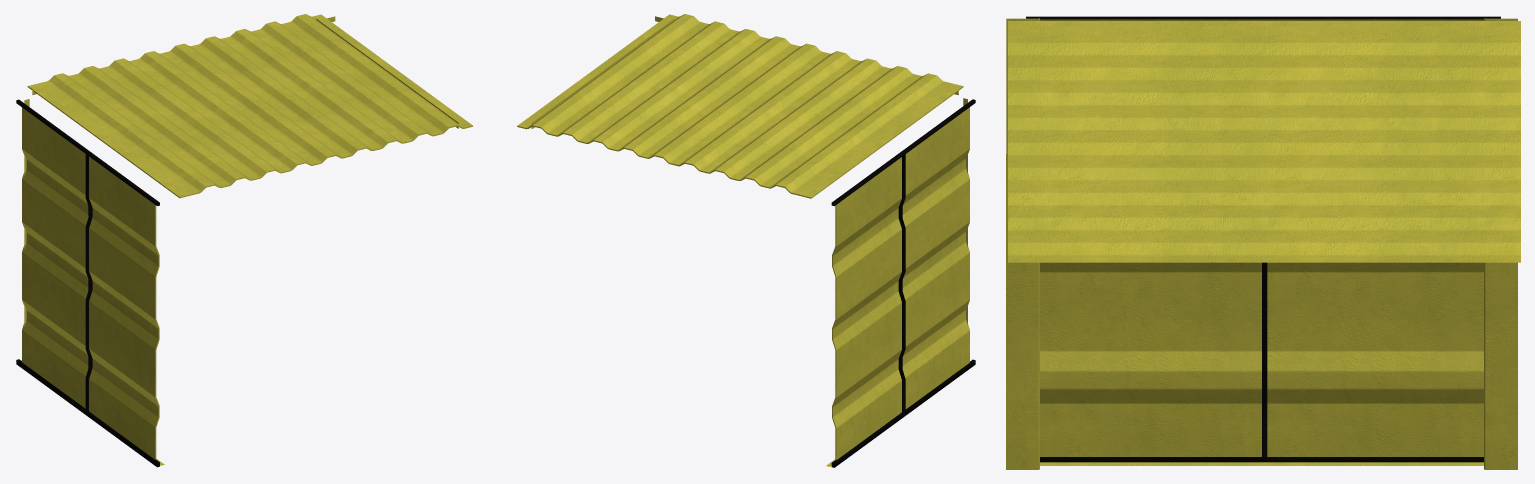
File: rear-top-sprayfoam.glb
3 renders of one model, left to right at view 1: azimuth 30°, elevation 25°; view 2: azimuth 150°, elevation 25°; view 3: azimuth 270°, elevation 25°, orthographic. The views are drawn at different scales.
Visible parts, largest first — view 1: 10FT Sprayfoam_Ceiling, 10FT Sprayfoam_Reartop; view 2: 10FT Sprayfoam_Ceiling, 10FT Sprayfoam_Reartop; view 3: 10FT Sprayfoam_Ceiling, 10FT Sprayfoam_Reartop.
Boxes of the visible parts, box(x1,y1,x2,y2) form: 10FT Sprayfoam_Ceiling: box(21, 14, 473, 465); 10FT Sprayfoam_Reartop: box(16, 99, 159, 467); 10FT Sprayfoam_Ceiling: box(517, 14, 969, 466); 10FT Sprayfoam_Reartop: box(831, 99, 975, 467); 10FT Sprayfoam_Ceiling: box(1006, 18, 1520, 469); 10FT Sprayfoam_Reartop: box(1026, 16, 1500, 462).
Size of the model in its own units: 2.91 by 2.36 by 2.37.
2 materials, 1 textured.
